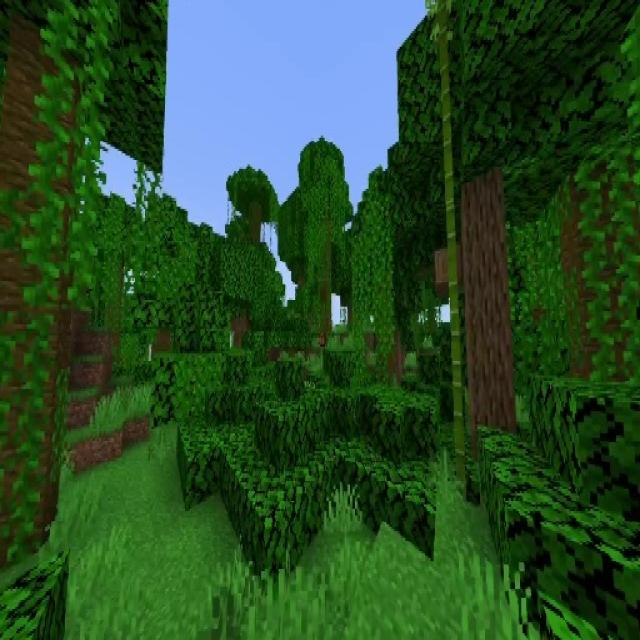jungle_log: (0, 0, 102, 574)
oak_log: (460, 183, 516, 451)
